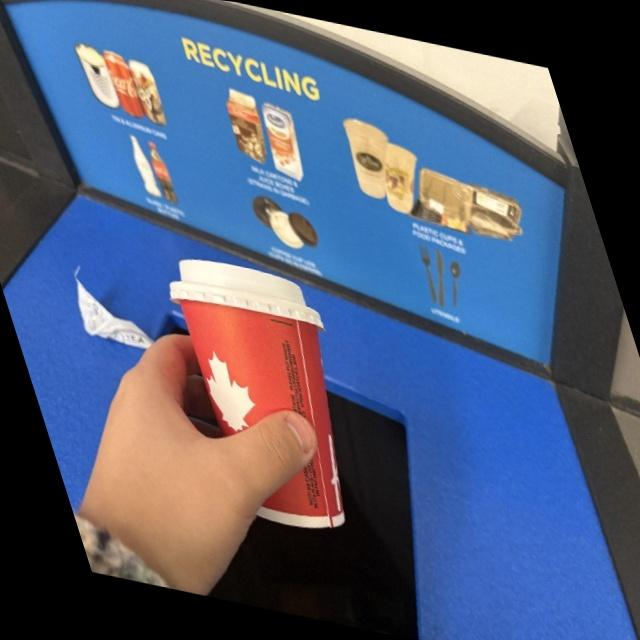Timmies: (129, 240, 405, 558)
